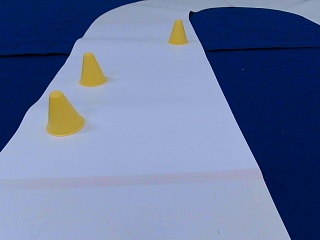cone: (46, 92, 86, 135), (78, 53, 107, 86), (168, 20, 187, 44)
